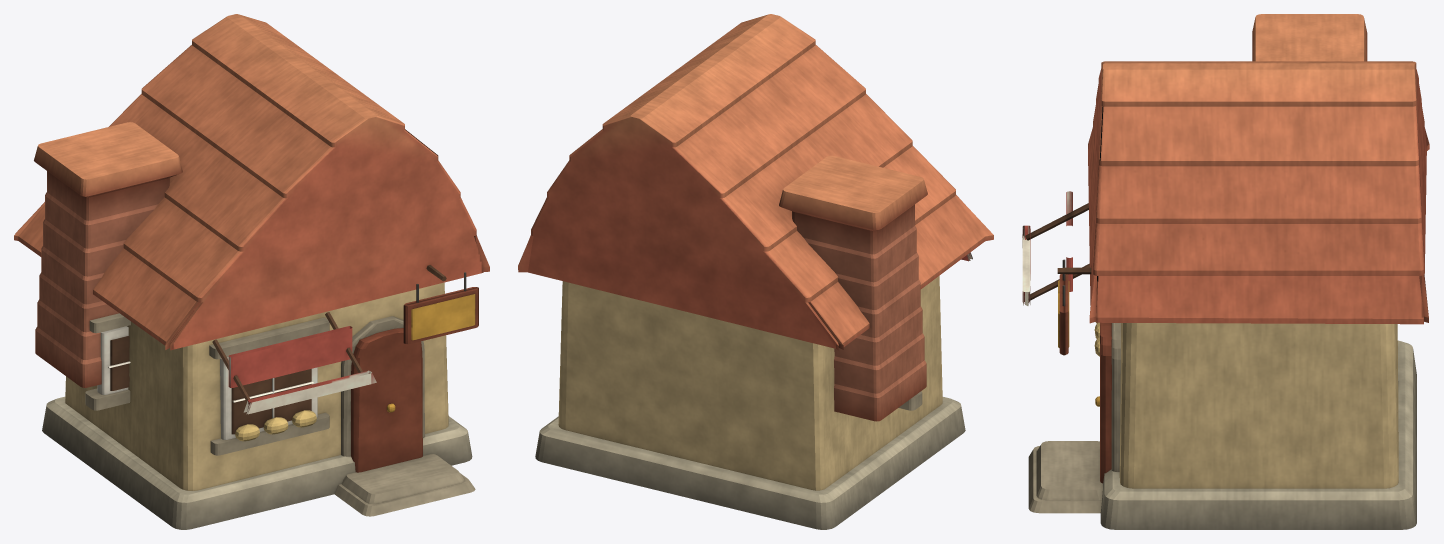
Rendered from bakery.glb.
The picture shows the model from 3 angles, left to right: view 1: azimuth 30°, elevation 25°; view 2: azimuth 150°, elevation 25°; view 3: azimuth 270°, elevation 25°; orthographic projection. The views are drawn at different scales.
Visible parts, largest first — view 1: Bakery; view 2: Bakery; view 3: Bakery.
Boxes of the visible parts, x1,y1,x2,y2 form: Bakery: (14, 14, 489, 529); Bakery: (518, 14, 993, 529); Bakery: (1022, 14, 1429, 529).
Bounding box in the file's own units: 3.88 × 4.06 × 3.68.
Materials: 1 (1 with a texture image).
